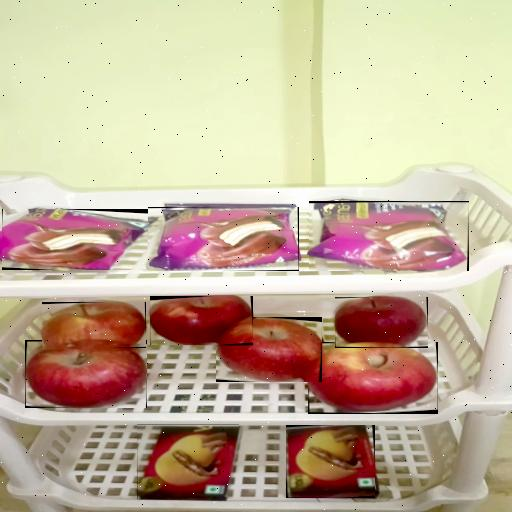Apple: (308, 342, 438, 414), (25, 340, 147, 408), (216, 317, 322, 382), (150, 296, 253, 345), (42, 302, 146, 348), (335, 297, 428, 348)
Choco Fills: (137, 424, 239, 499), (286, 425, 375, 498)
Choco Pie: (309, 201, 469, 271), (148, 207, 299, 271), (2, 209, 153, 270)
